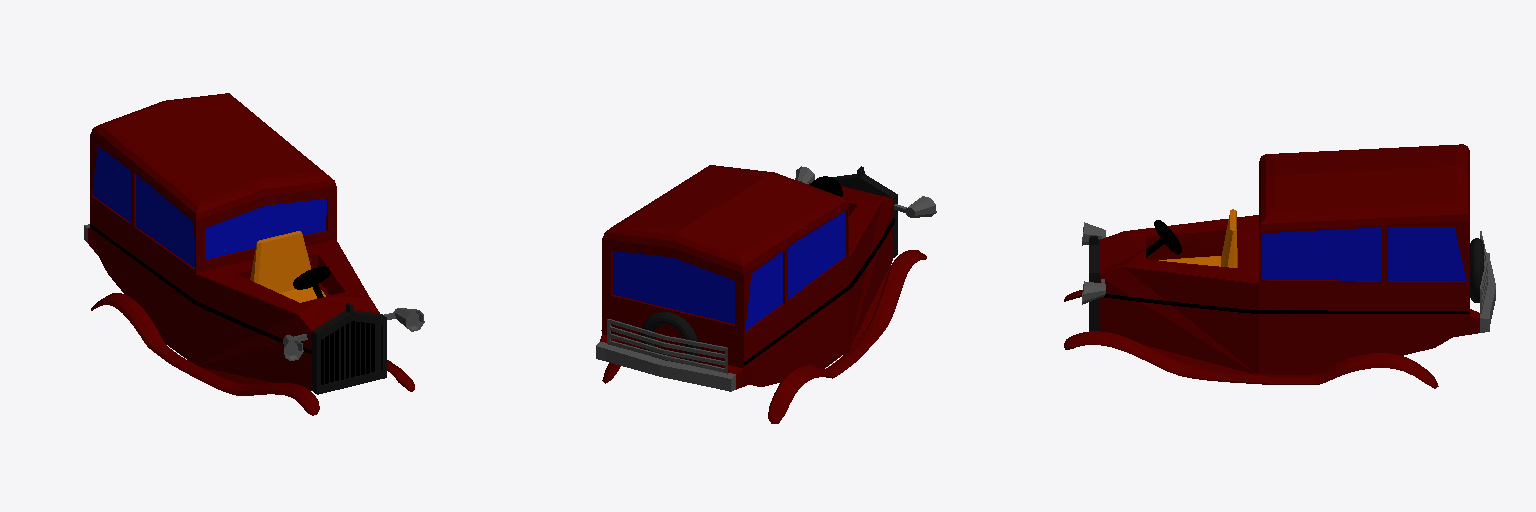
The model's file is bootlegervehiclelowpoly.obj.
3 views of the same model, side by side, from view 1: azimuth 30°, elevation 25°; view 2: azimuth 150°, elevation 25°; view 3: azimuth 270°, elevation 25° (orthographic).
Parts seen in each view (by area): view 1: Torus.003; view 2: Torus.003; view 3: Torus.003.
Boxes of the visible parts, box(x1,y1,x2,y2) form: Torus.003: box(84, 93, 424, 415); Torus.003: box(596, 165, 936, 423); Torus.003: box(1064, 144, 1495, 388).
Bounding box in the file's own units: 1.57 × 1.5 × 3.27.